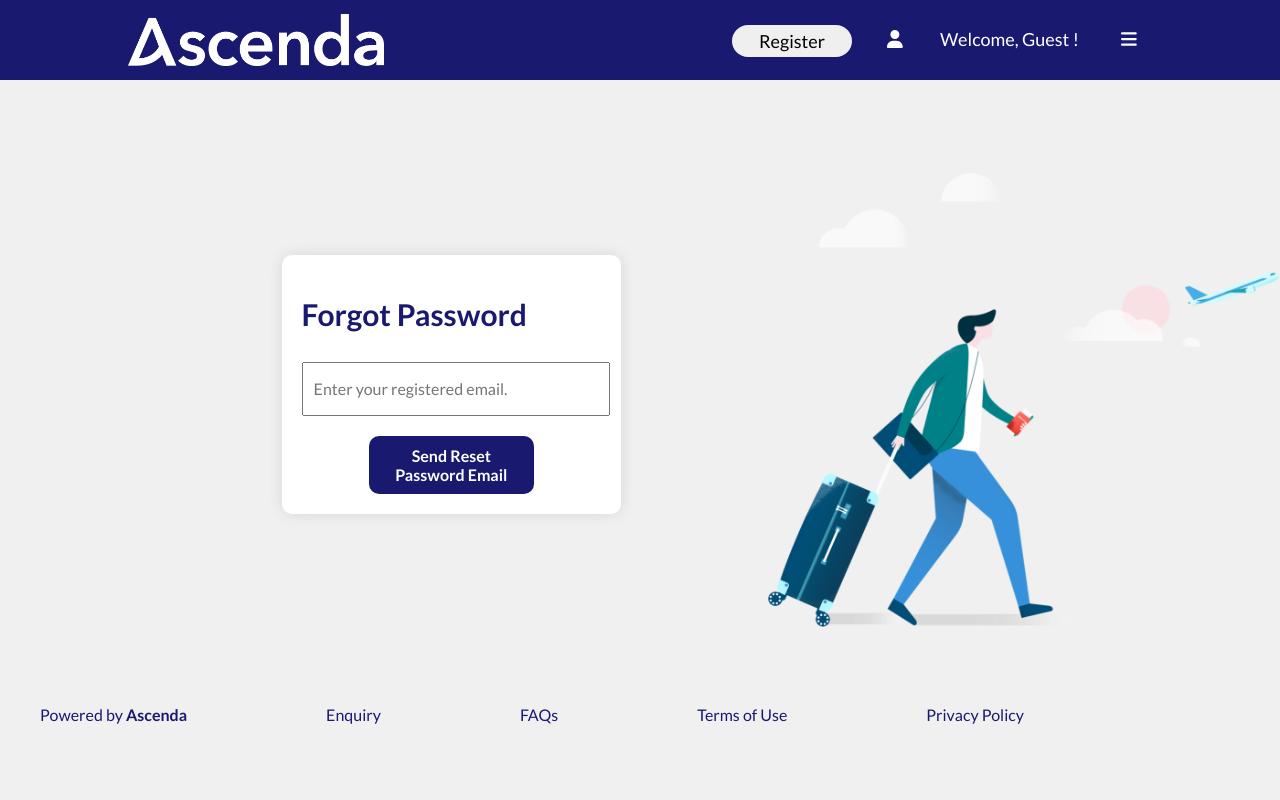
Test: Forgot Password Page Test › Displays success message and mocks email upon successful button click
In the field with placeholder "Enter your registered email.": (457, 389) [302,362,611,416], type "test@test.com"
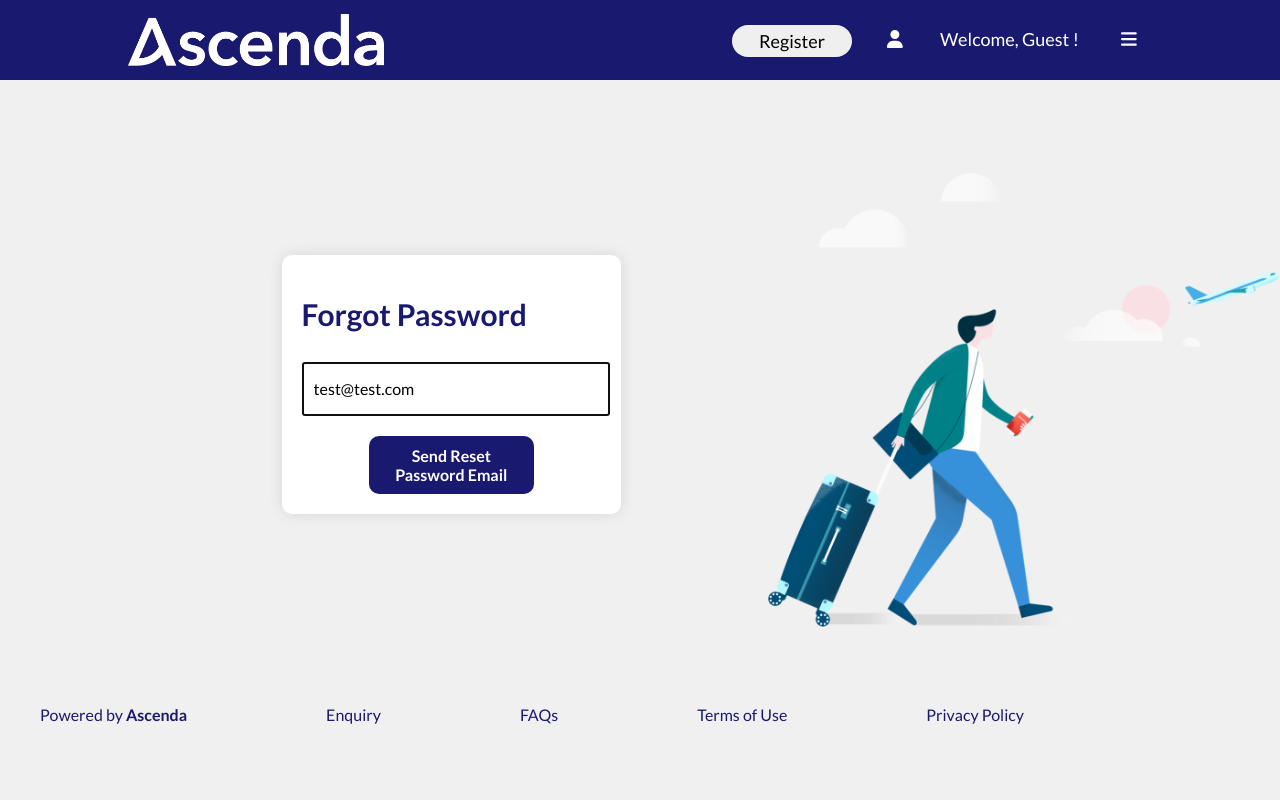
Click the button with test id "forgotPwdBtn": (452, 465) [369,436,534,494]
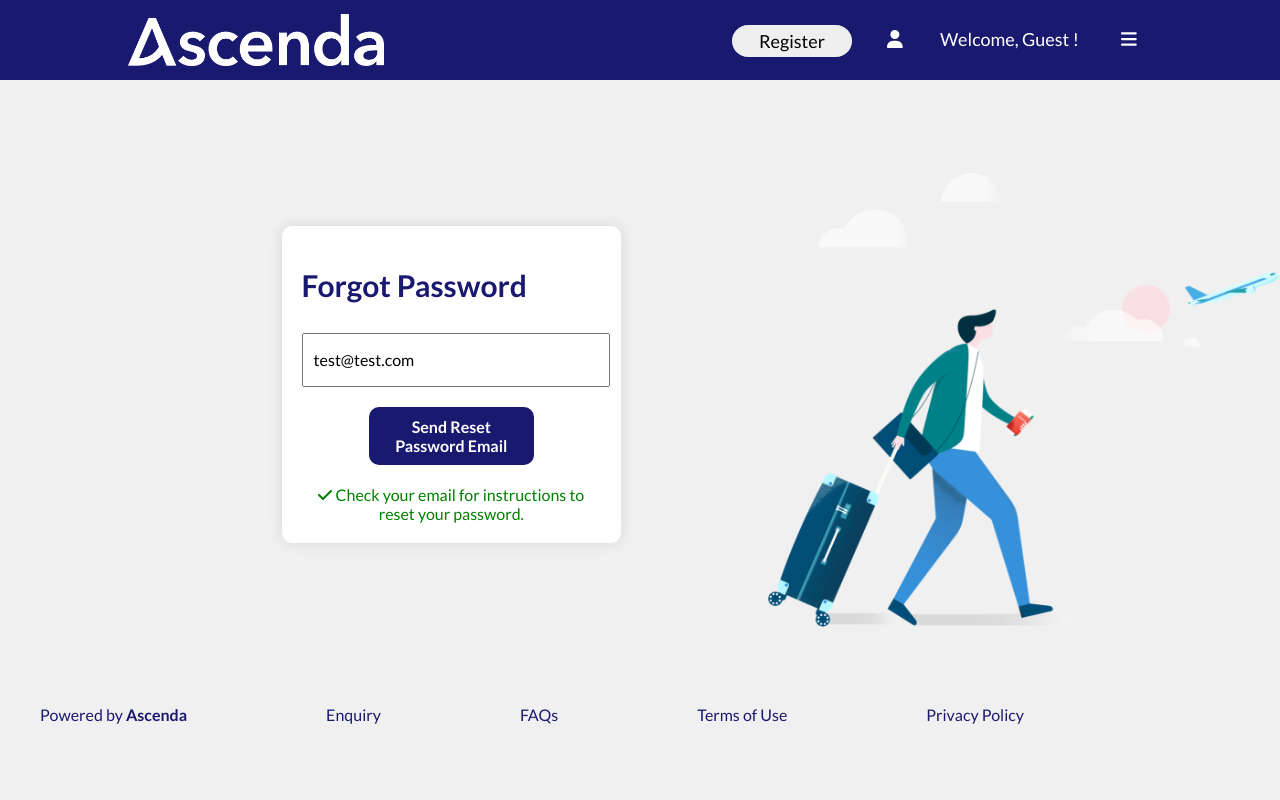
Check: the element with test id "forgotPwdContainer" shows "Check your email for instructions to reset your password.", box [282,226,622,542]
